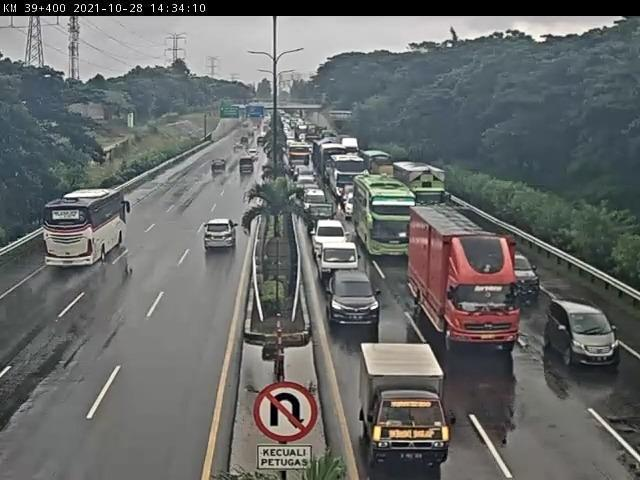bus: (46, 192, 132, 267), (351, 174, 412, 253), (331, 158, 367, 201), (287, 143, 313, 173)
car: (356, 342, 459, 466), (546, 303, 621, 369), (327, 273, 381, 330), (497, 250, 543, 305), (316, 236, 359, 275), (201, 217, 242, 254), (310, 221, 349, 250), (305, 203, 338, 229), (237, 157, 259, 179), (209, 158, 230, 177), (305, 190, 330, 205), (344, 191, 359, 216), (298, 176, 318, 194), (294, 166, 317, 181)
truck: (410, 207, 525, 349), (393, 163, 454, 220), (320, 147, 346, 180)
